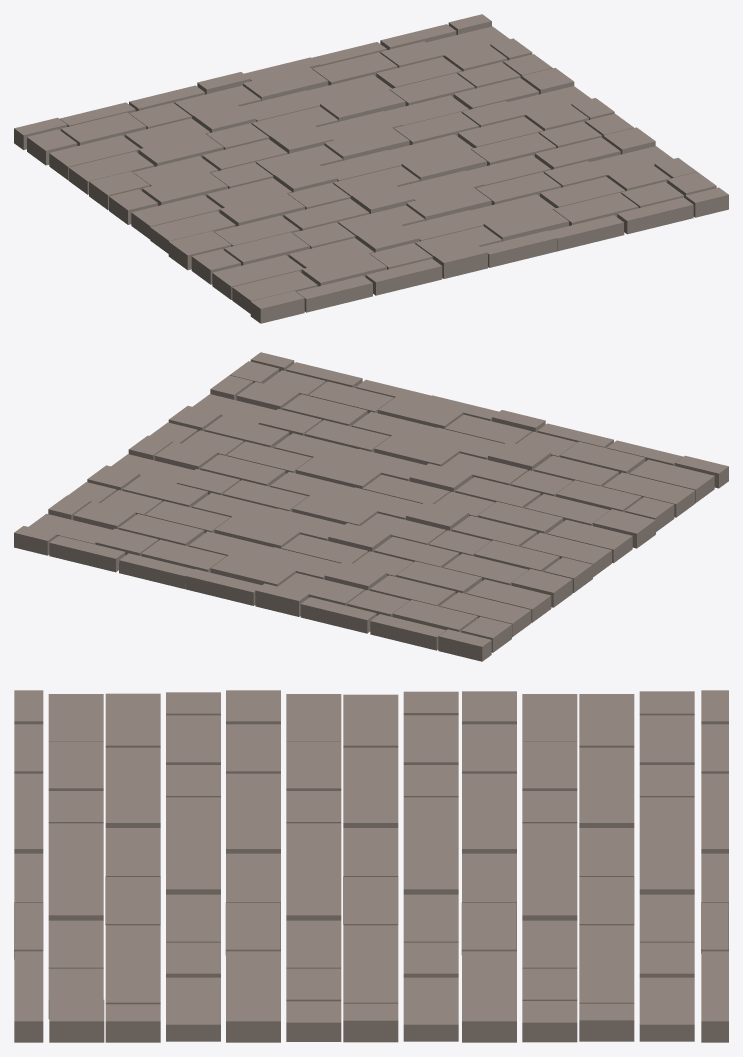
Rendered from floor_3.obj.
3 views of the same model, one above another, from view 1: azimuth 30°, elevation 25°; view 2: azimuth 150°, elevation 25°; view 3: azimuth 270°, elevation 25° (orthographic). The views are drawn at different scales.
Parts seen in each view (by area): view 1: floor_3; view 2: floor_3; view 3: floor_3.
Part boxes in pixels (x1,y1,x2,y2): floor_3: (14, 14, 728, 323); floor_3: (14, 352, 728, 661); floor_3: (14, 690, 728, 1042).
Bounding box in the file's own units: 1.53 × 0.0501 × 1.4.
